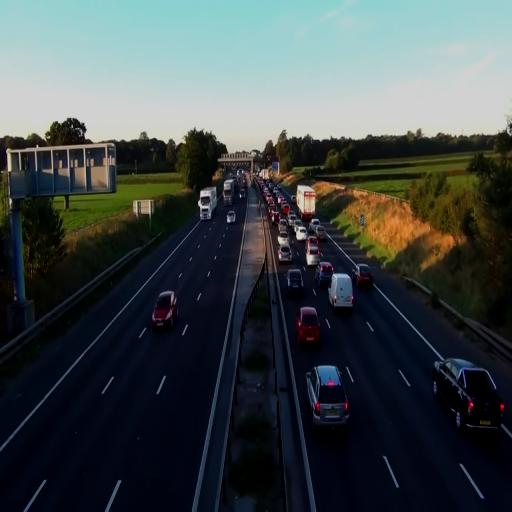vehicle: (452, 366, 506, 435), (306, 364, 350, 437), (432, 358, 474, 402), (295, 306, 322, 348), (152, 291, 178, 331), (328, 273, 354, 312), (295, 183, 316, 223), (198, 188, 218, 220), (199, 188, 217, 221), (286, 267, 304, 298), (306, 238, 322, 268), (316, 262, 334, 288), (355, 265, 373, 290), (309, 217, 323, 237), (225, 208, 236, 226)
